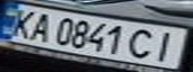0: (48, 15, 75, 47)
1: (103, 22, 130, 56)
4: (87, 20, 109, 53)
8: (66, 17, 90, 51)
A: (24, 10, 57, 43)
C: (124, 27, 163, 61)
I: (145, 29, 187, 62)
K: (0, 7, 42, 38)
